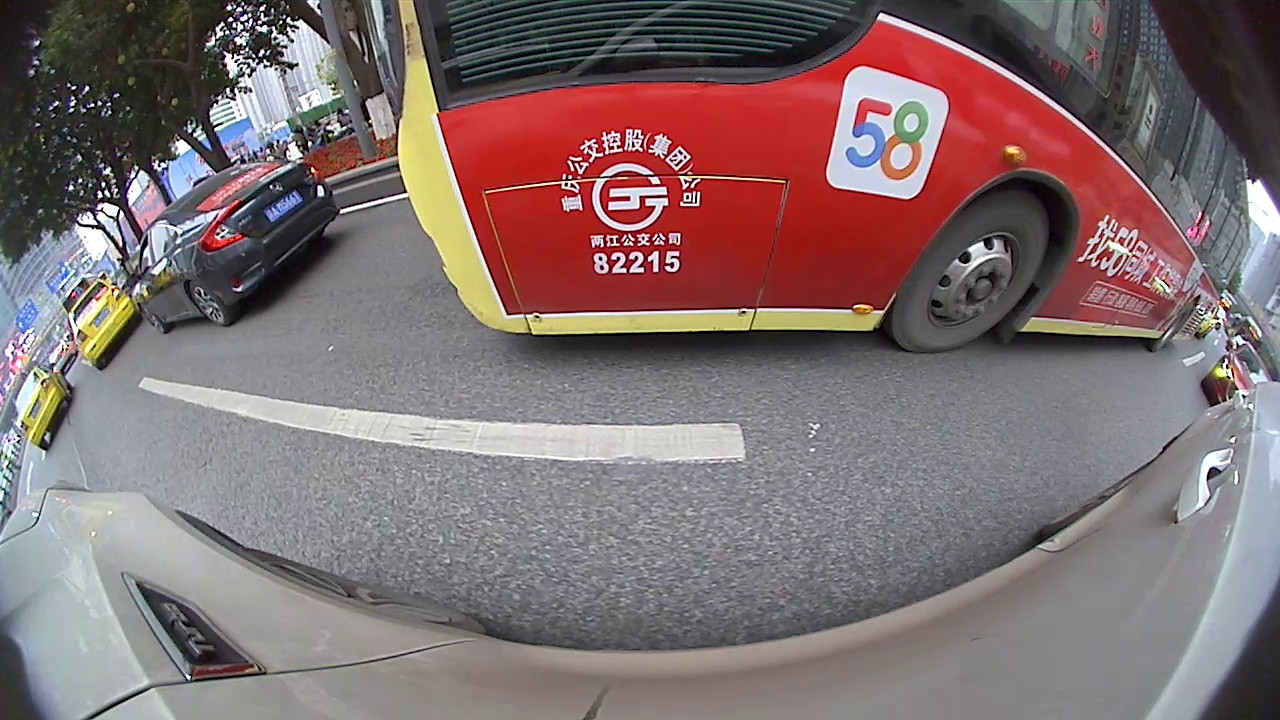bus: (356, 2, 1257, 360)
car: (134, 159, 339, 336), (64, 273, 146, 372), (7, 365, 82, 451)
front: (887, 185, 1053, 356), (136, 300, 172, 335)
rear: (1152, 296, 1200, 353), (185, 279, 232, 329)
